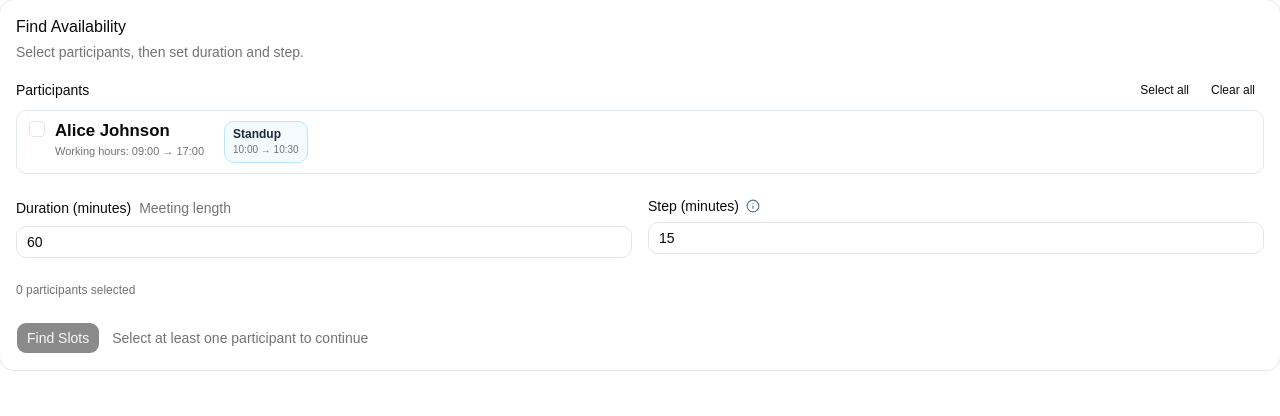
Scenario: AvailabilityForm › keeps results stale when a valid submitted field becomes invalid
The image size is (1280, 416).
Clear the number field labelled "Duration (minutes)" at point(324, 242), box [16,226,632,258]
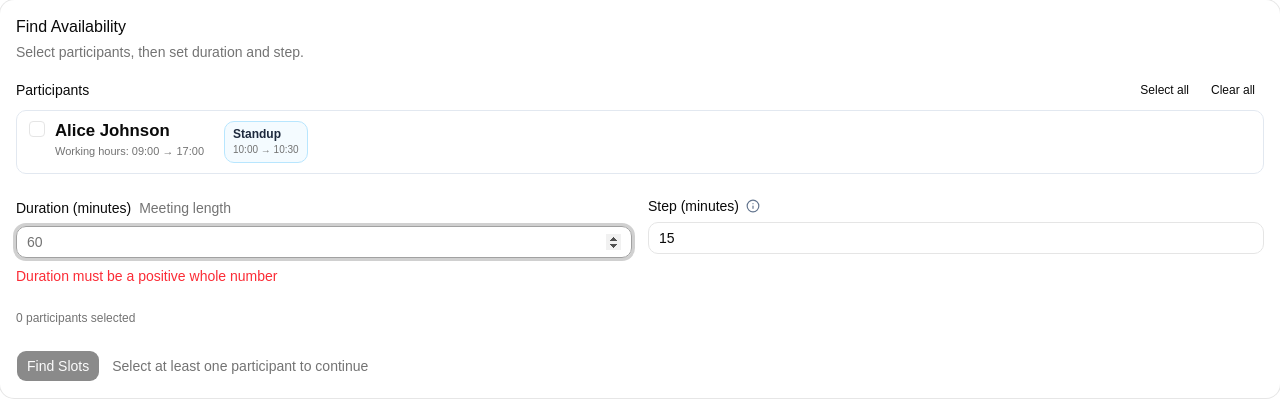
expect the text "Duration must be a positive whole number" is shown: met, box [16,268,278,284]
